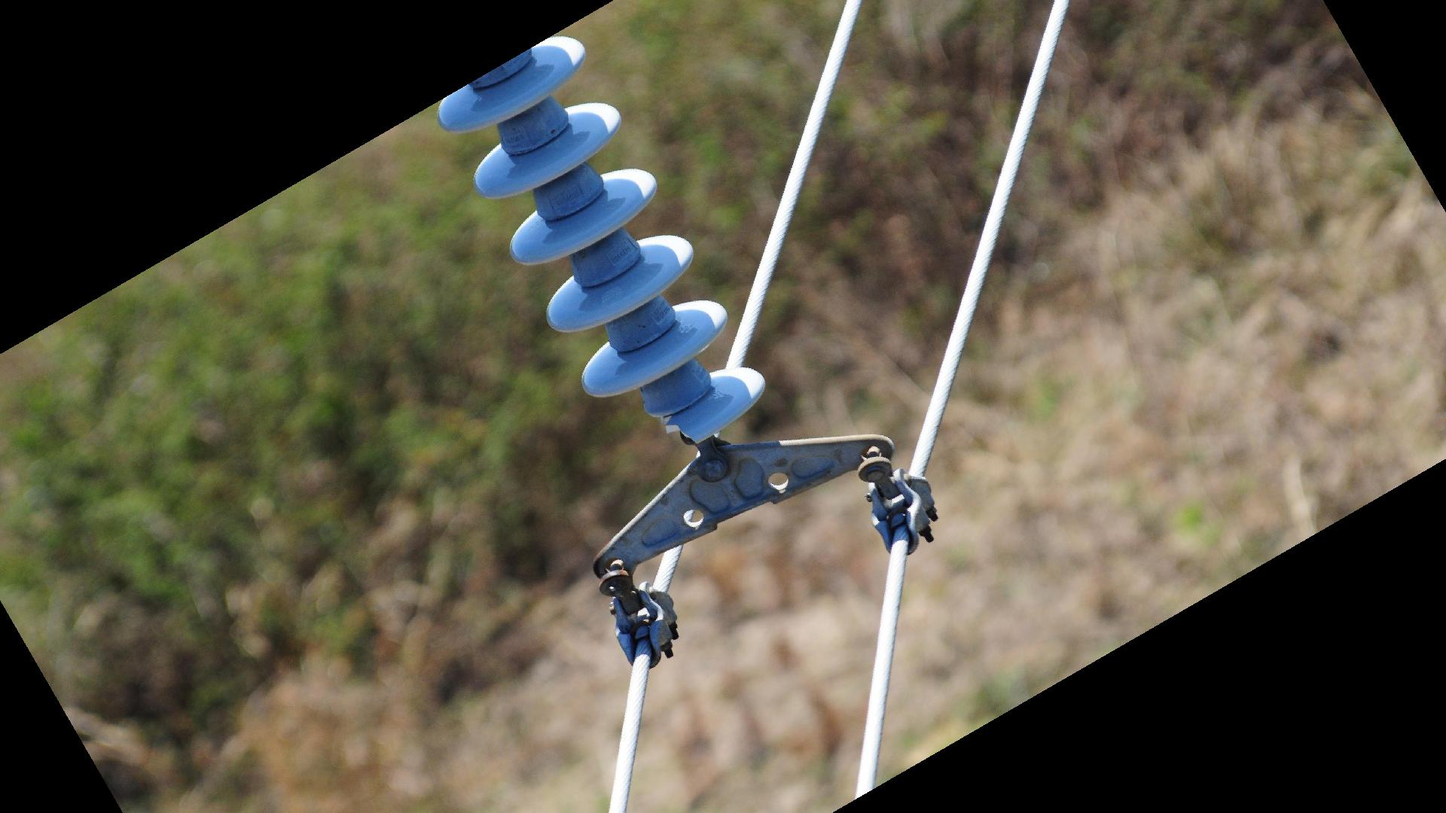insulator: (427, 31, 770, 449)
insulator_breakage: (650, 411, 701, 449)
